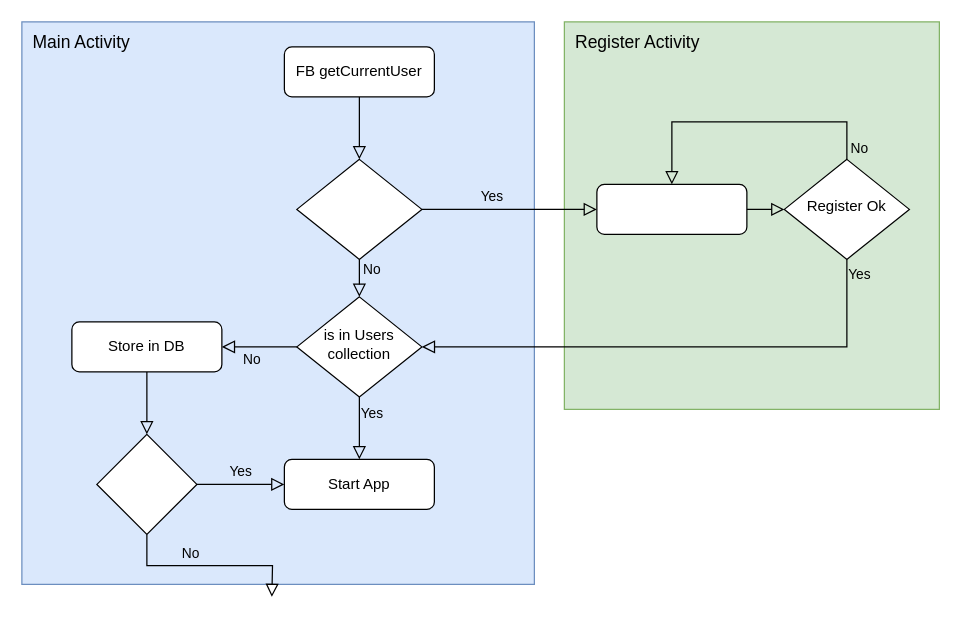
This 961x631 diagram has some shape labels left out. The shapes that lost their labels are listed below. From the top down, each one's centre as x and y in pixels, then its label:
the point at 359,208: user = null
the point at 671,208: Start Register
the point at 146,483: Stored
